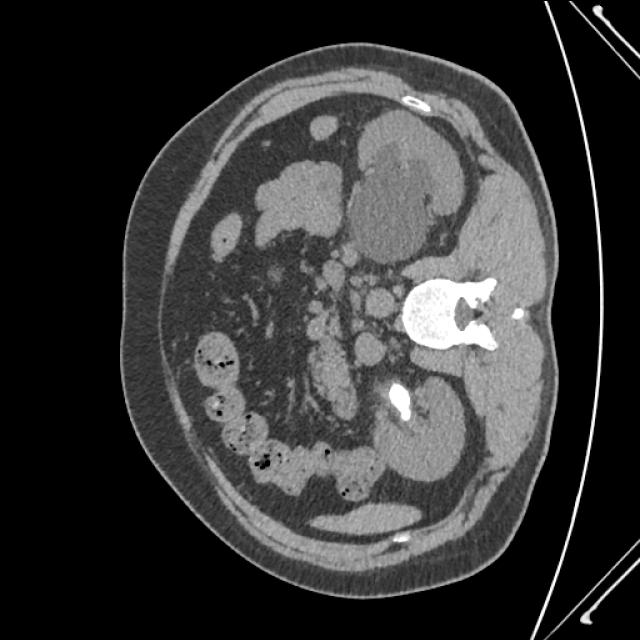kidneystone: (389, 383, 411, 420)
